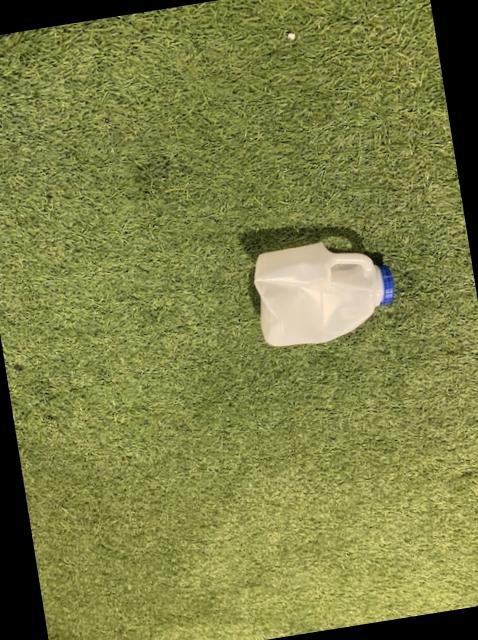plastic: (255, 243, 395, 346)
